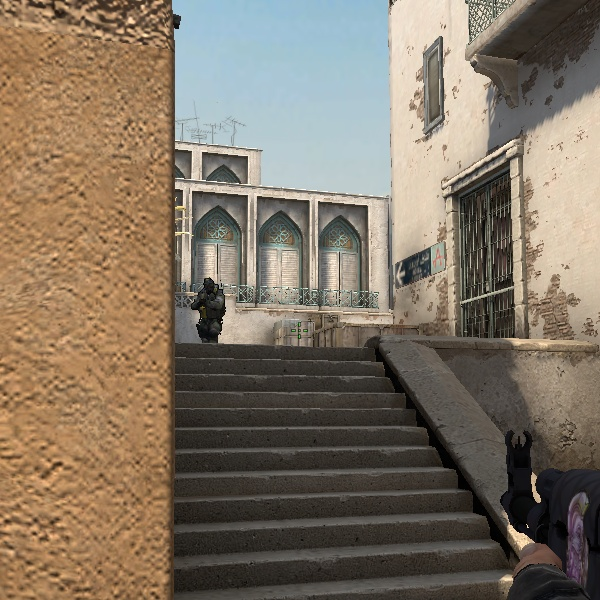ct_body: (186, 273, 230, 345)
